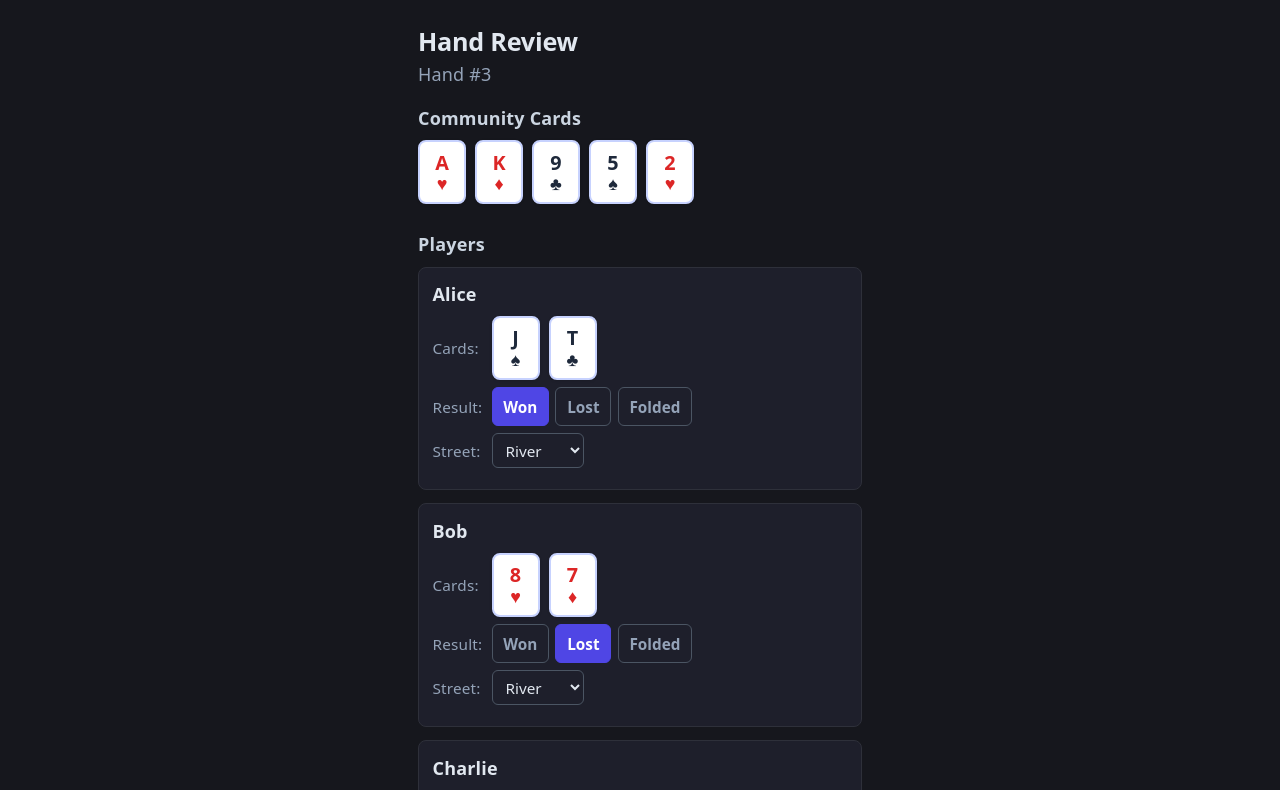
Test: ReviewScreen — editing community cards › selecting a card from CardPicker updates the community card
Step 1. Click the button with test id "review-community-flop1" → (442, 172), box x1=418 y1=140 x2=466 y2=204
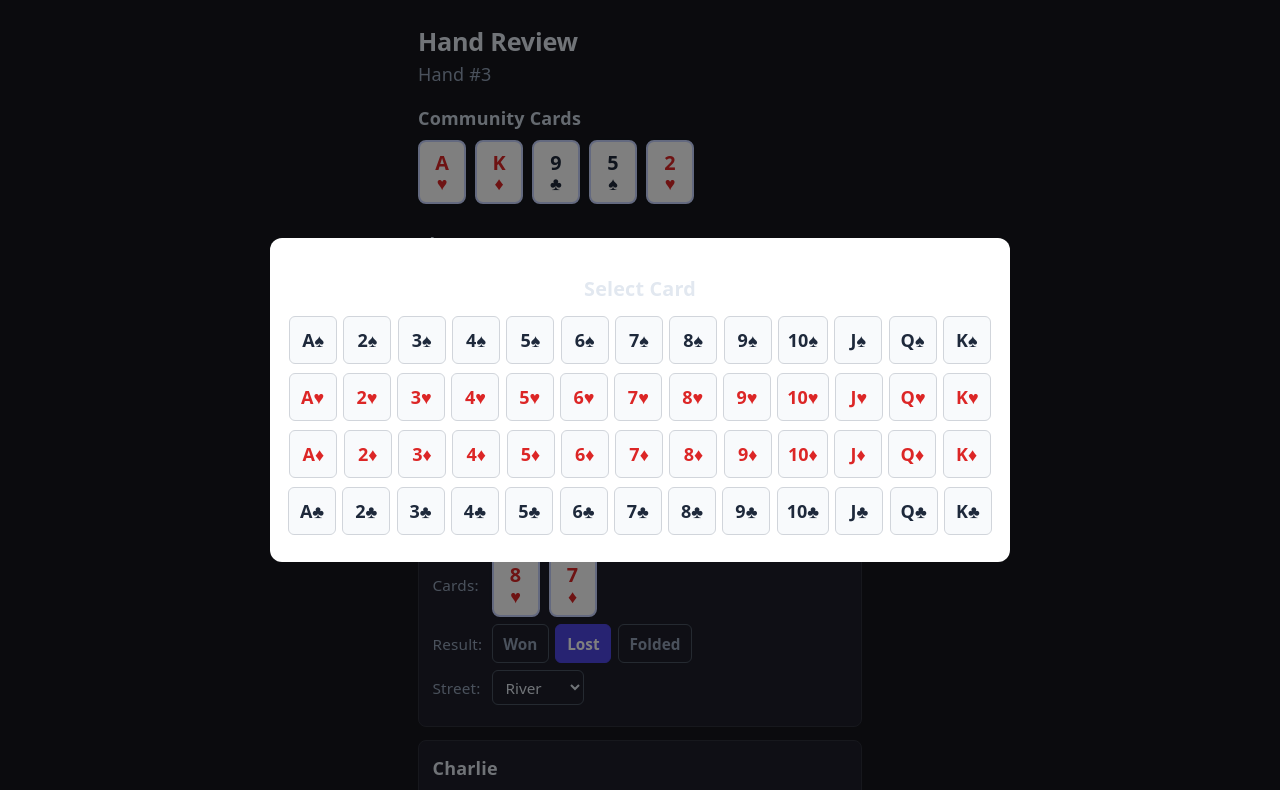
# CardPicker shows — click 'Q♠' to select Qs
Step 2. Click the button "Q♠" → (913, 340), box x1=889 y1=316 x2=937 y2=364
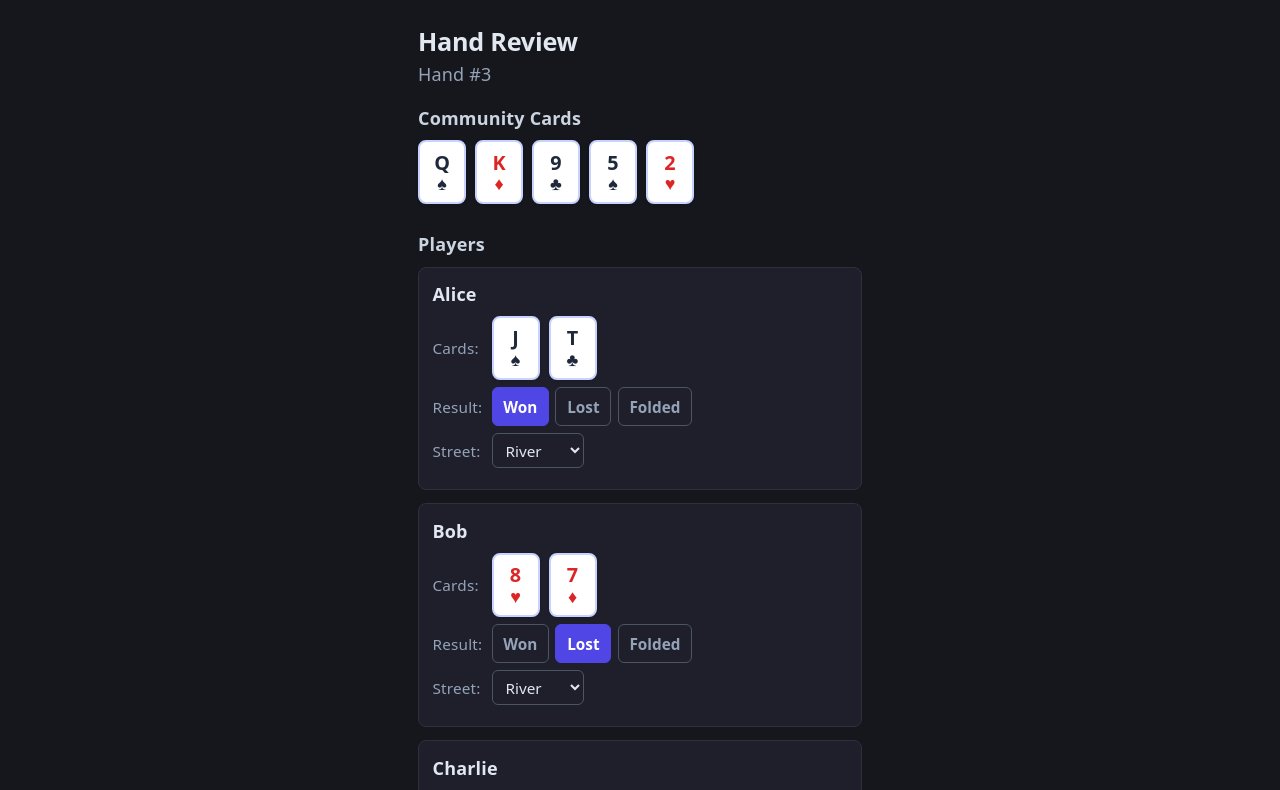
Expected: the button with test id "review-community-flop1" reads "Q ♠", x1=418 y1=140 x2=466 y2=204
